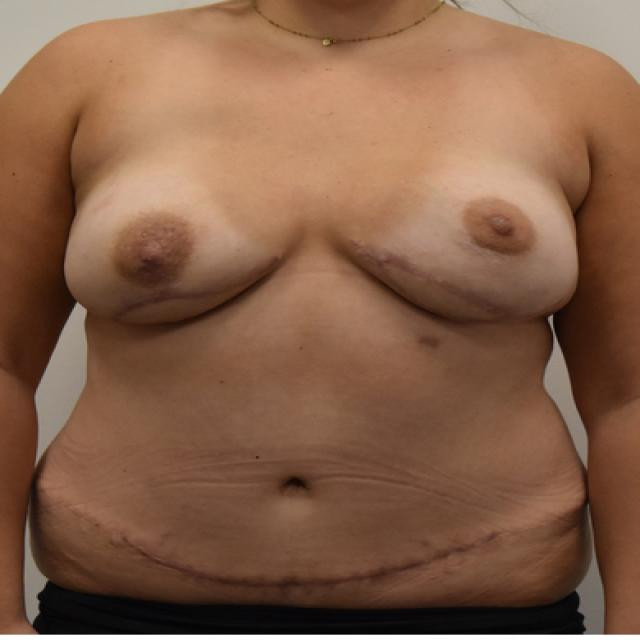Seno herido: (316, 148, 587, 338), (56, 149, 310, 338)
